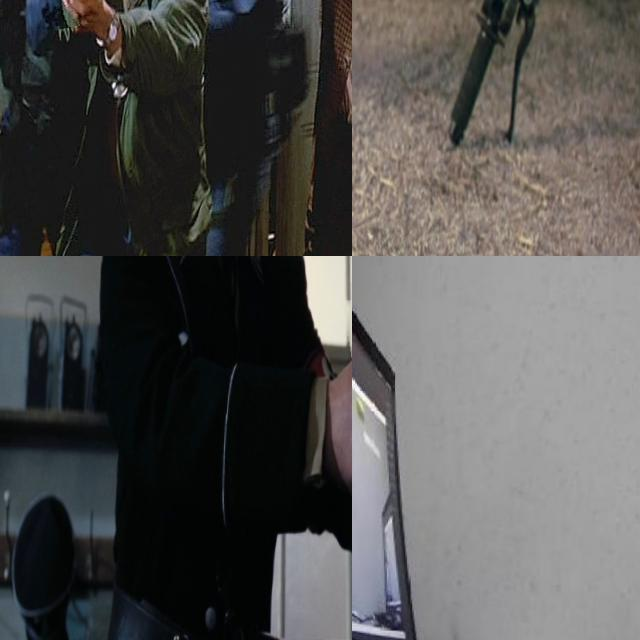gun-knife-thesis - v11 Yolov5 augmented: (38, 0, 98, 58), (276, 0, 318, 37)
